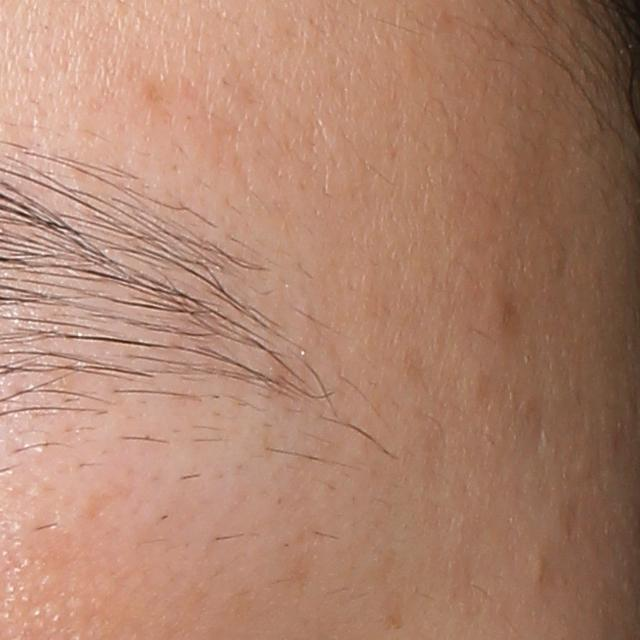comedo: (529, 551, 550, 589)
melasma: (379, 586, 406, 635)
